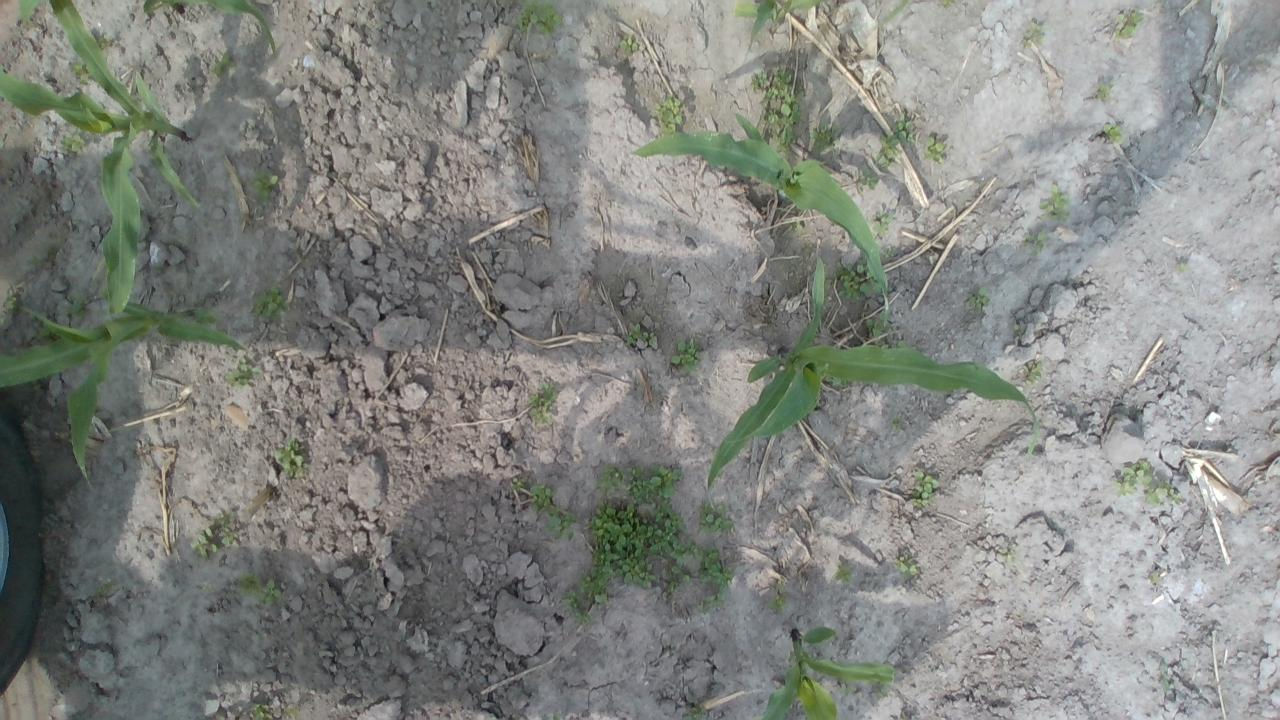Maize: (700, 257, 1042, 494), (1, 1, 202, 325), (629, 114, 894, 329), (1, 296, 248, 489), (15, 4, 284, 59), (760, 622, 899, 718)
Weeds: (524, 466, 732, 622), (856, 102, 947, 197), (746, 70, 840, 160), (1112, 464, 1170, 509), (840, 255, 880, 304), (188, 518, 236, 554), (649, 92, 680, 134), (245, 576, 282, 610), (520, 4, 563, 33), (248, 166, 280, 204), (668, 338, 698, 378), (256, 289, 288, 326), (532, 384, 560, 426), (1114, 8, 1146, 41), (273, 441, 302, 476), (227, 356, 255, 392), (1094, 123, 1126, 151), (51, 134, 84, 161), (769, 584, 795, 612), (874, 210, 896, 242), (622, 318, 648, 344), (865, 312, 889, 340), (1046, 194, 1068, 218), (918, 476, 936, 502), (1028, 231, 1048, 254), (1094, 81, 1111, 106), (972, 283, 986, 312), (838, 566, 858, 586), (1026, 25, 1046, 44), (898, 562, 920, 578), (618, 36, 636, 52)
